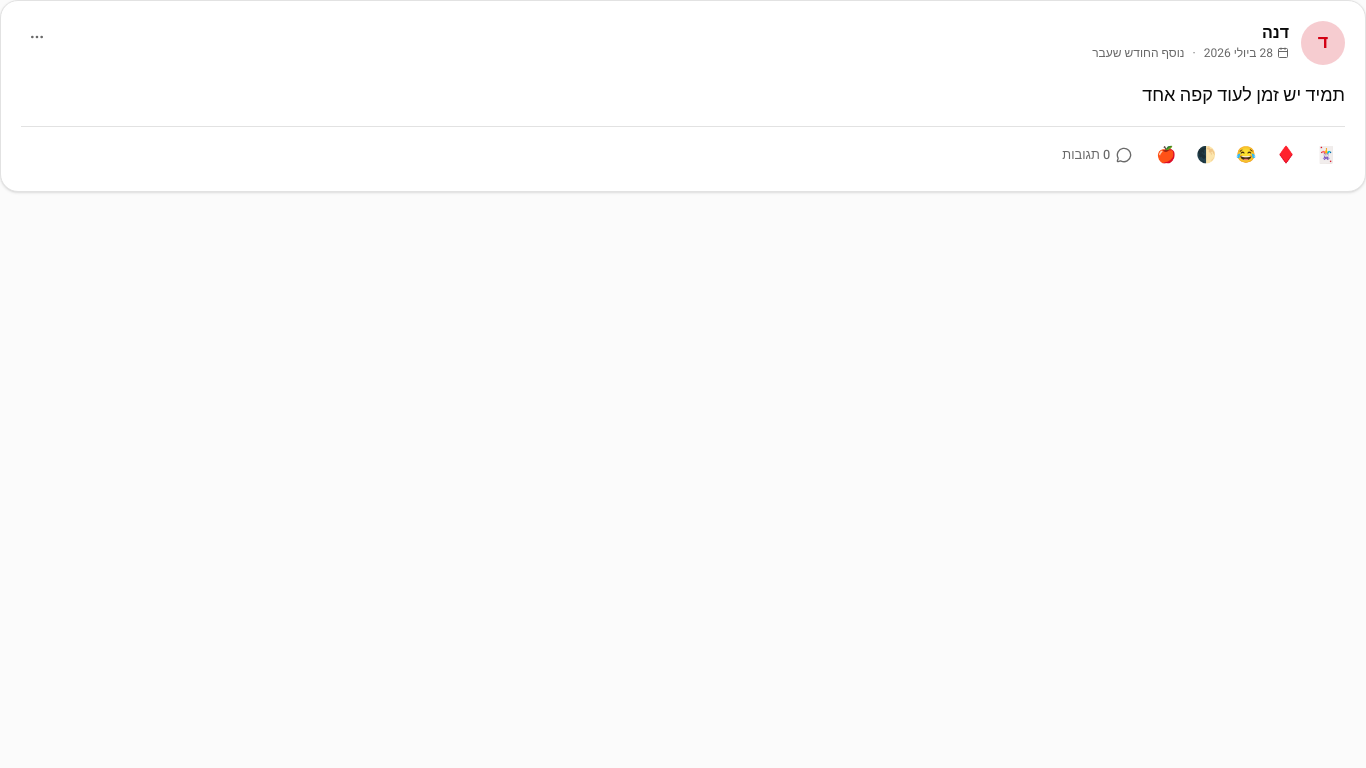
Test: QuoteCard › opens the edit dialog from the actions menu
The width and height of the screenshot is (1366, 768).
Click the button named "אפשרויות נוספות".
click(37, 37)  # box [21,21,53,53]
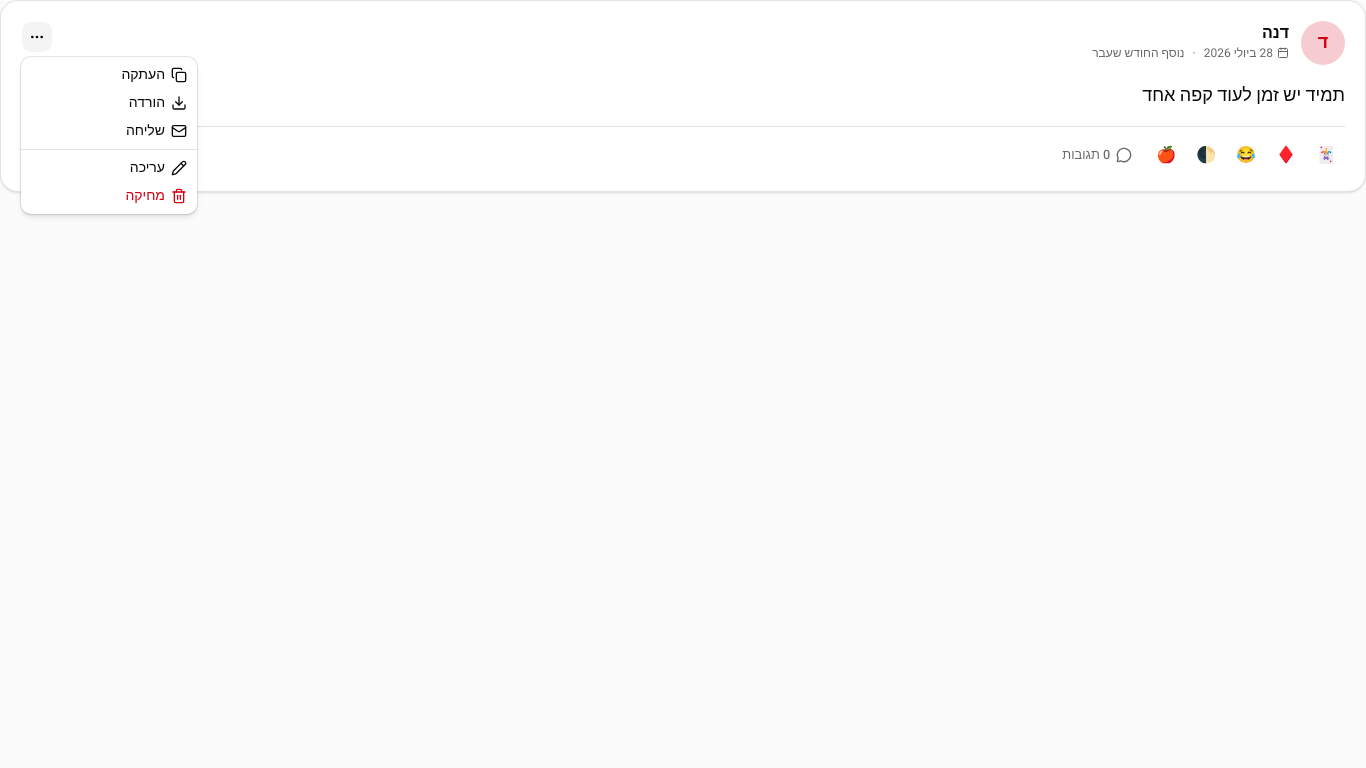
Click the menu item "עריכה".
click(158, 168)  # box [130,157,187,178]
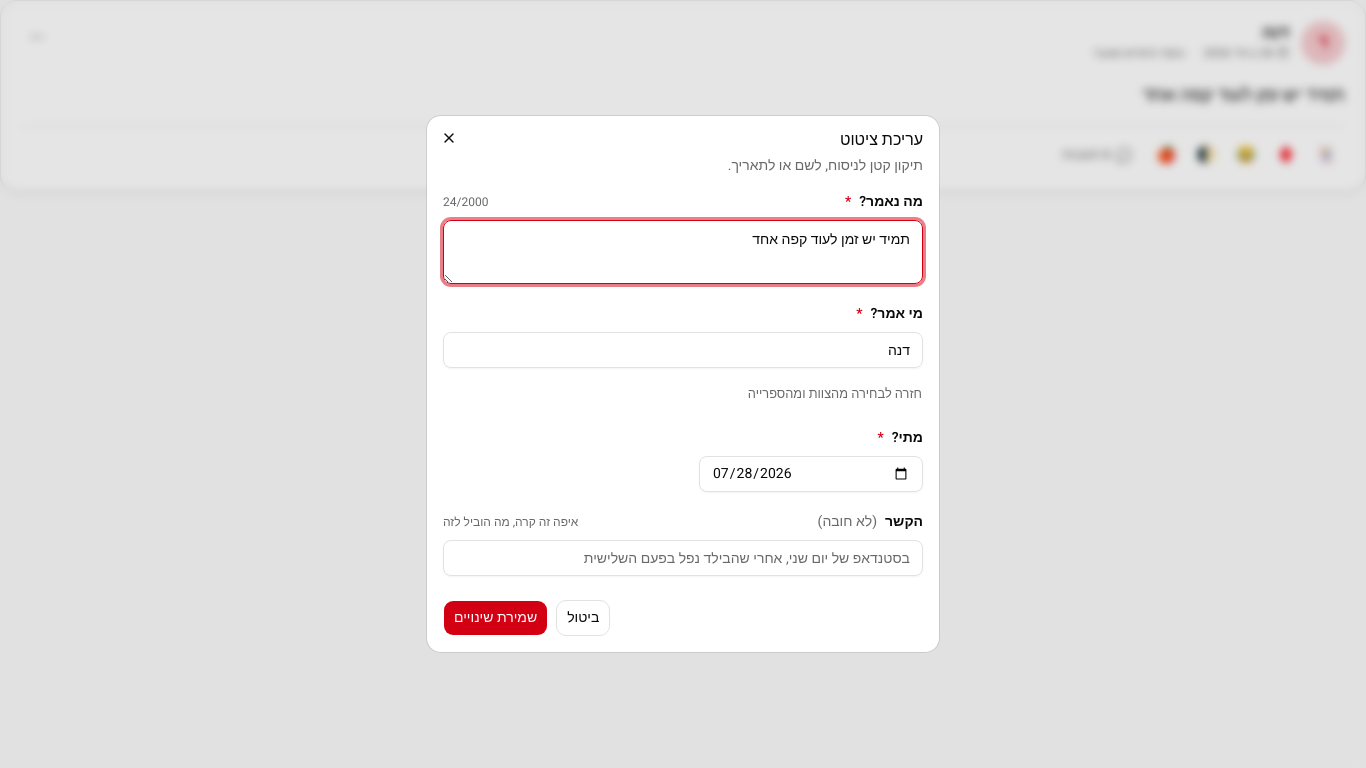
Result: the heading "עריכת ציטוט" is shown at [840,128,923,152]
Result: the field labelled "מי אמר? *" holds "דנה" at [443,332,923,368]
